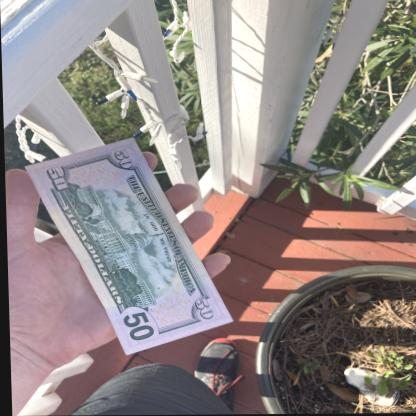fifty-back: (24, 134, 236, 358)
